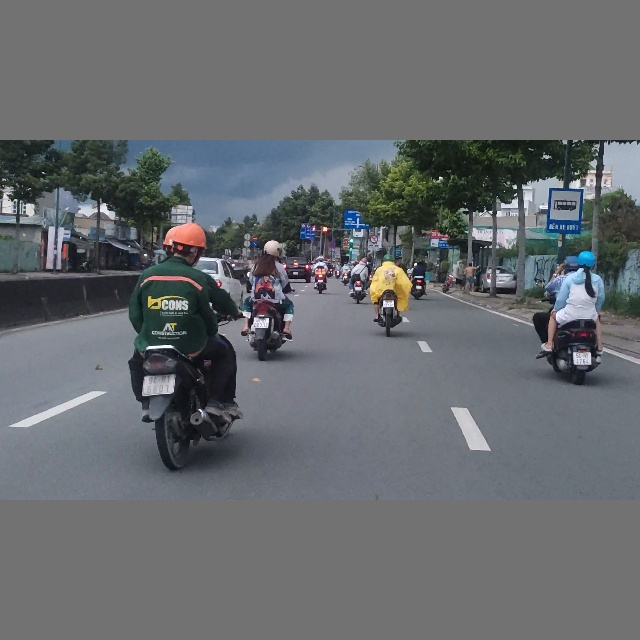I.434a: (546, 188, 583, 232)
P.102: (252, 236, 258, 241)
P.137: (370, 235, 378, 244)
R.302a: (252, 241, 257, 246)
R.415a: (300, 228, 316, 239)
